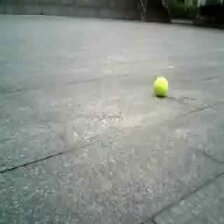tennis: (153, 77, 168, 94)
